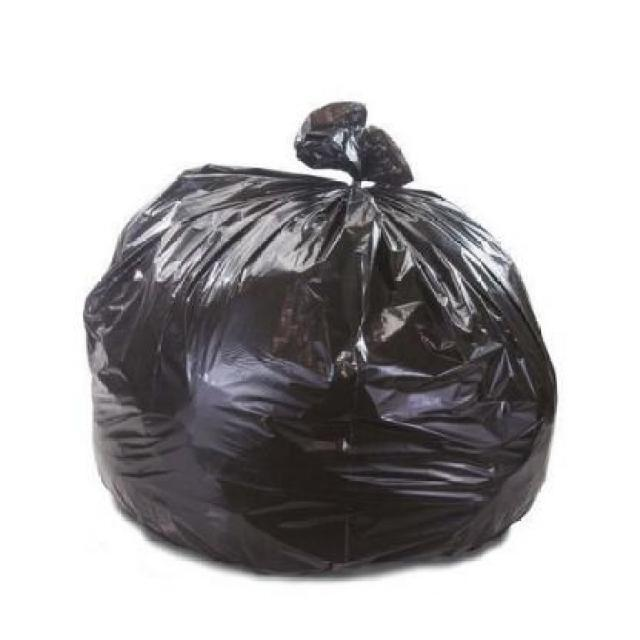garbage: (75, 68, 572, 572)
